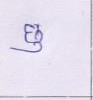u_matra: (10, 42, 45, 54)
